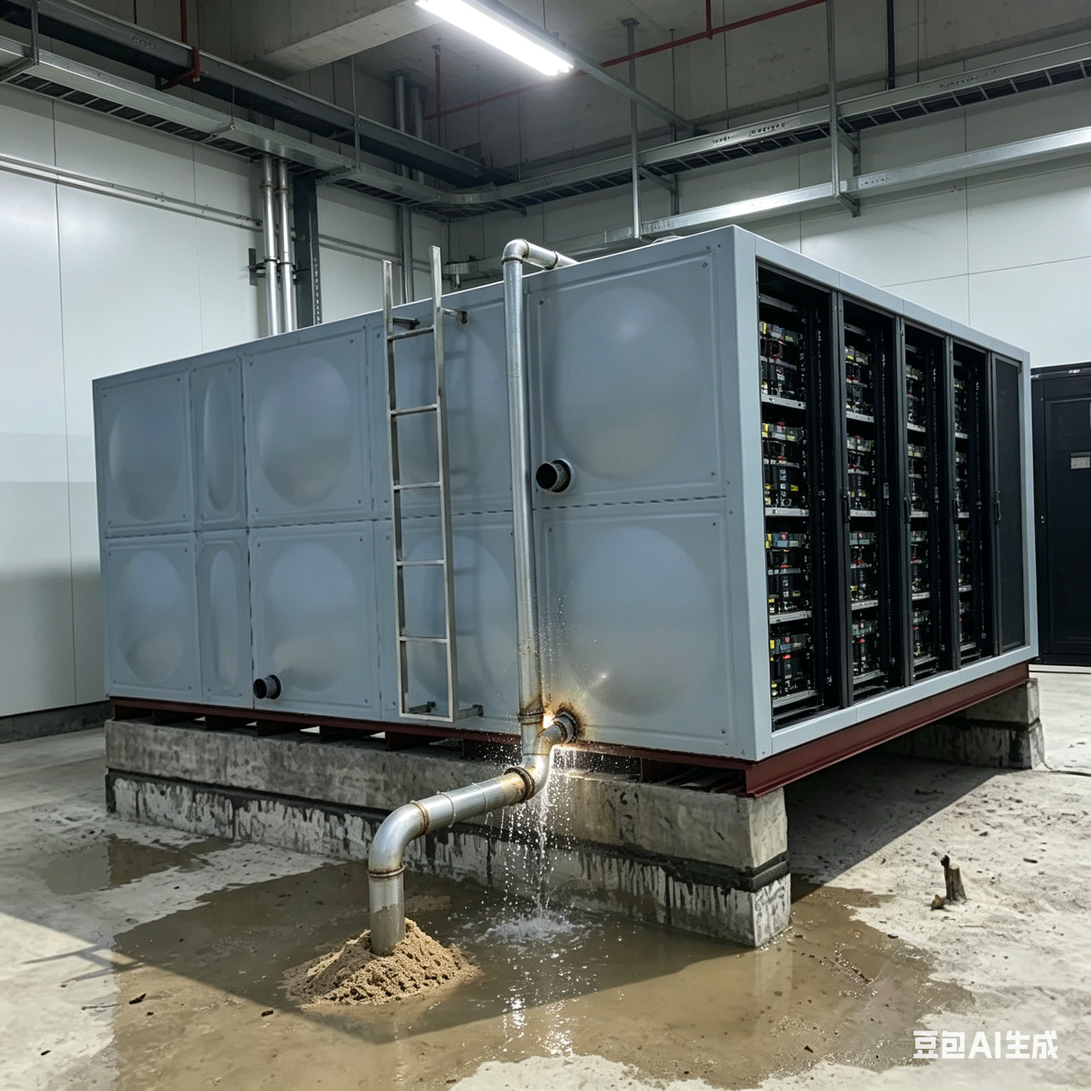Leakage: (124, 917, 969, 1087), (425, 698, 598, 858), (255, 858, 632, 919), (38, 836, 138, 894)
